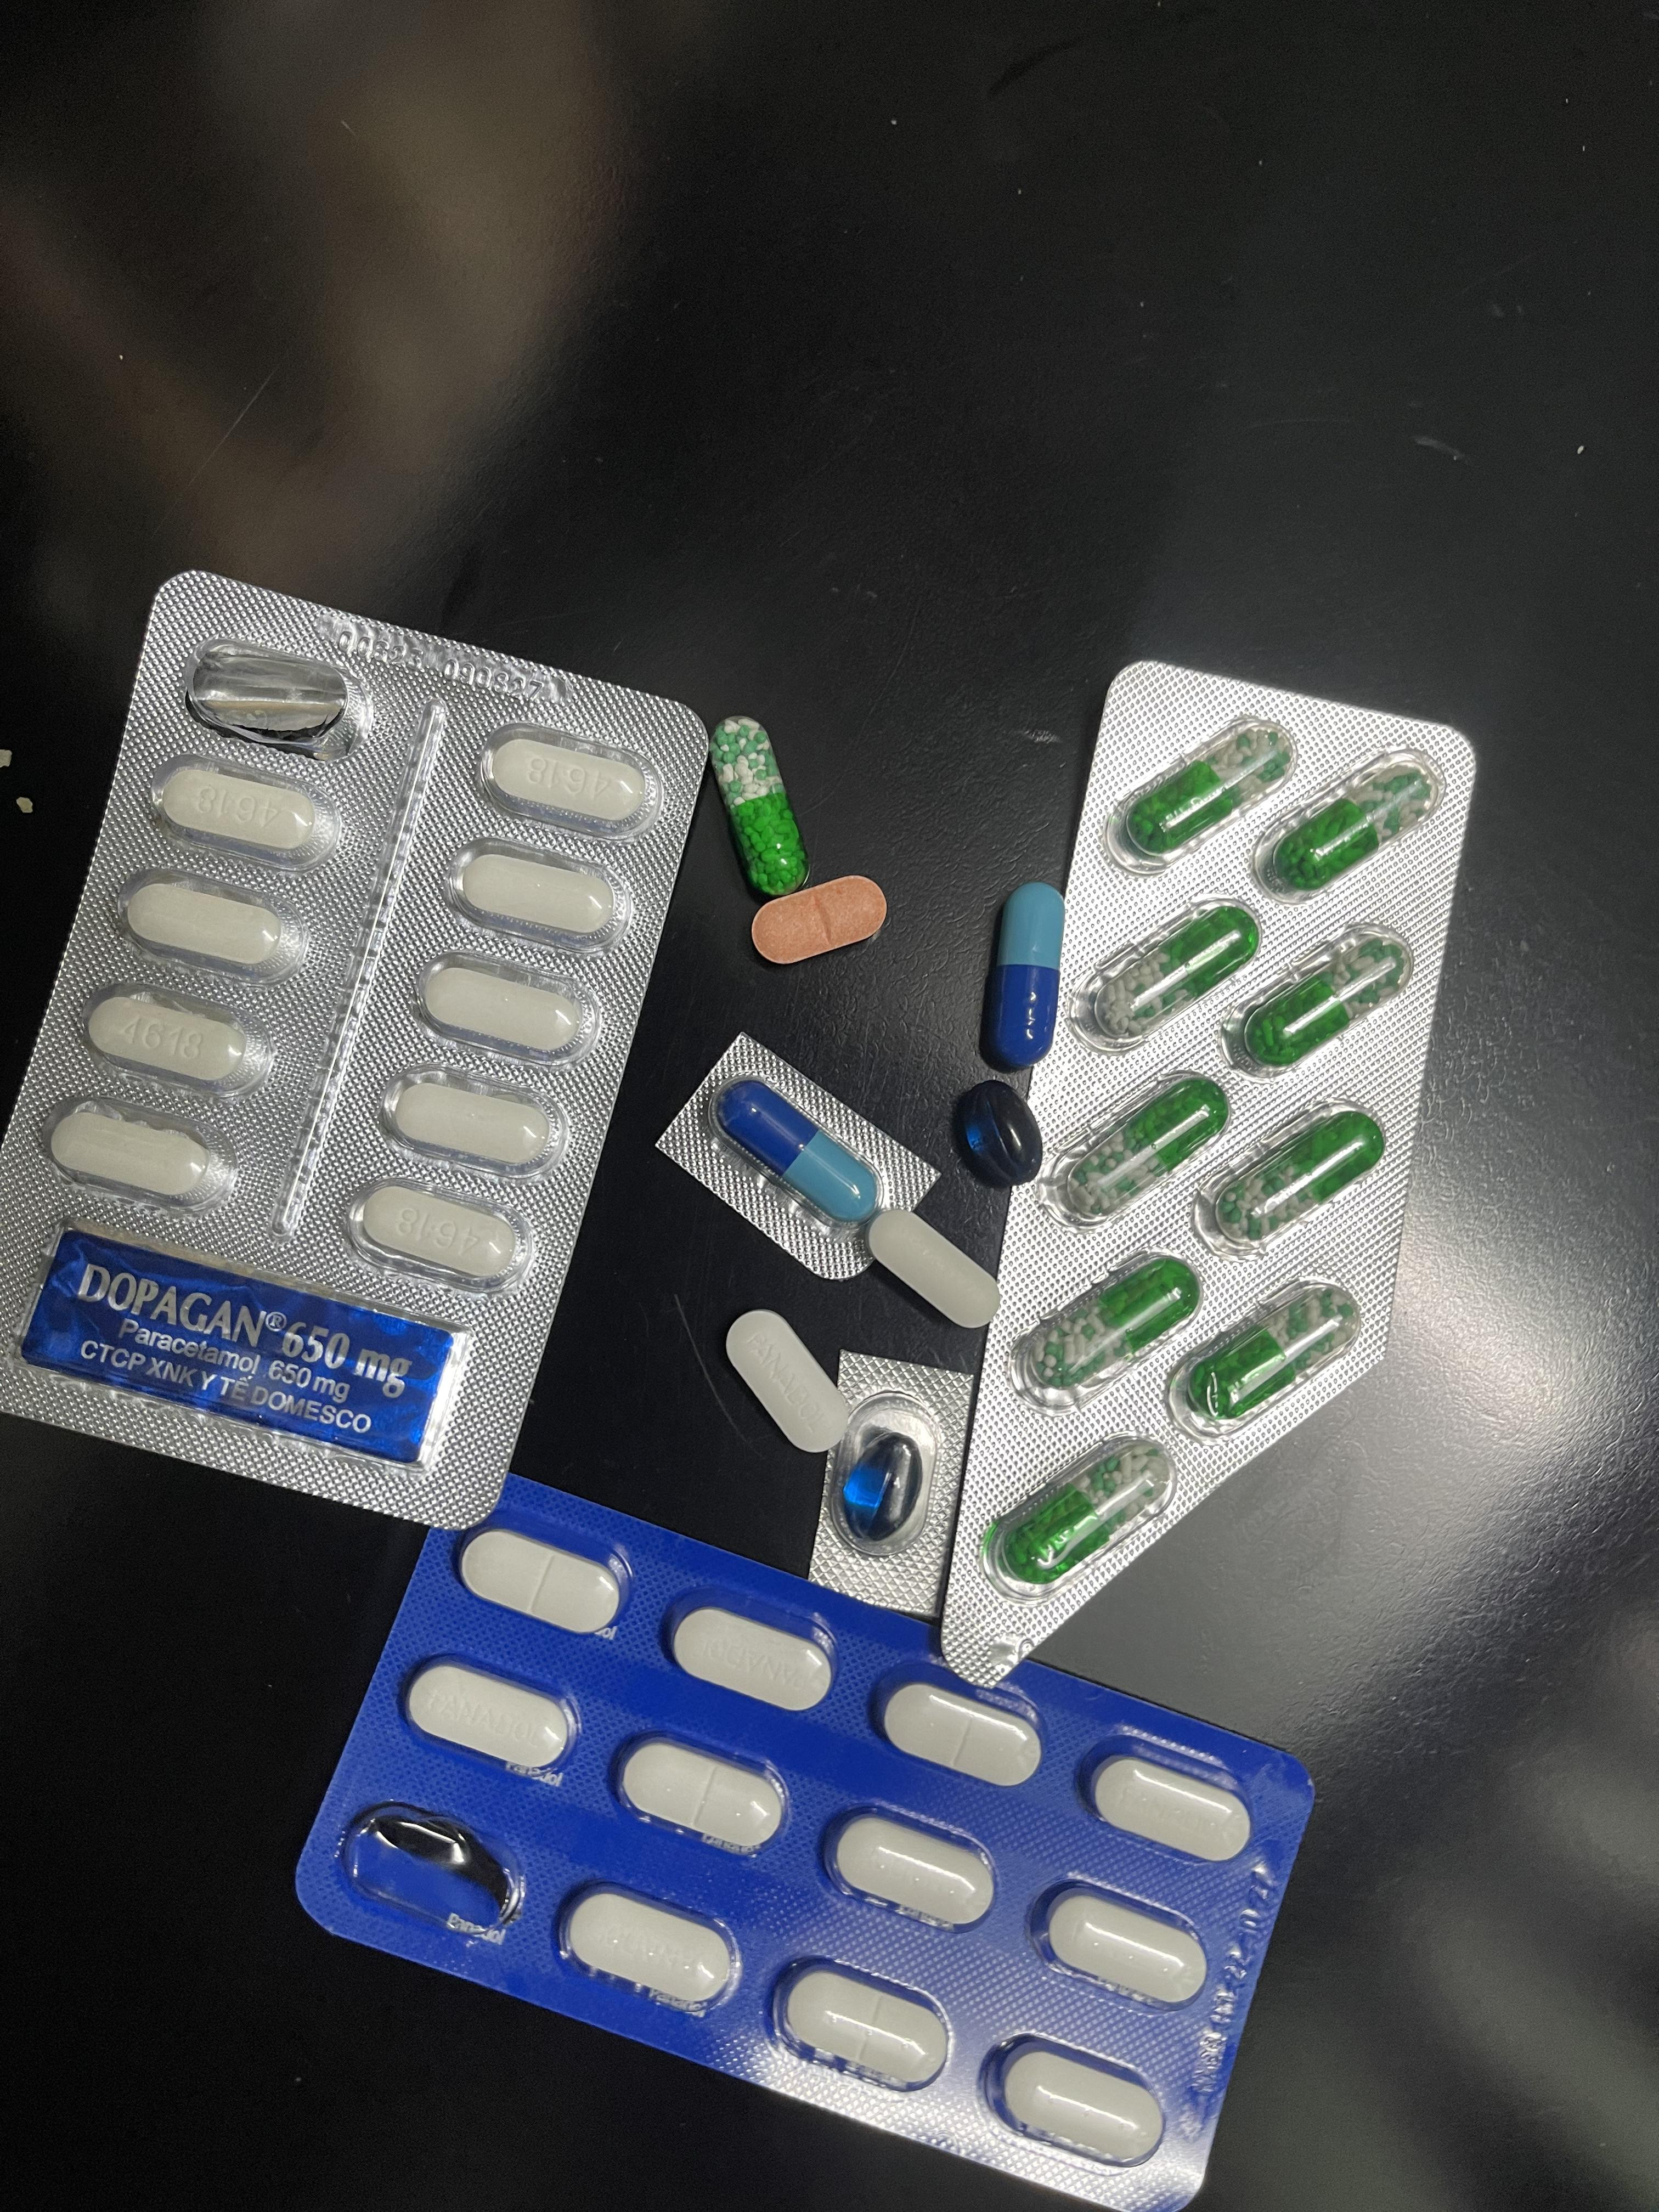Lincomyxin_500mg: (951, 1080, 1042, 1184), (842, 1433, 922, 1541)
Loratadine_10mg: (751, 874, 885, 965)
Paracetamol_350mg: (770, 1959, 951, 2092), (558, 1885, 741, 2015), (985, 2040, 1168, 2170), (1033, 1881, 1209, 2006), (403, 1656, 579, 1780), (613, 1733, 788, 1855), (823, 1810, 997, 1930), (664, 1594, 833, 1712), (1082, 1749, 1253, 1865), (878, 1676, 1046, 1789), (725, 1310, 857, 1453), (458, 1521, 626, 1629)
Paracetamol_500mg: (148, 752, 343, 867), (345, 1181, 535, 1298), (47, 1099, 240, 1212), (115, 869, 308, 979), (378, 1064, 568, 1176), (80, 988, 270, 1097), (413, 951, 601, 1061), (444, 838, 631, 948), (477, 726, 660, 838), (870, 1209, 1002, 1329)
Paracetamol_650mg: (1164, 1278, 1361, 1437), (1249, 747, 1443, 904), (1014, 1252, 1202, 1411), (1105, 718, 1295, 874), (988, 1435, 1176, 1590), (1046, 1075, 1227, 1231), (1225, 927, 1410, 1080), (1199, 1103, 1385, 1254), (1082, 902, 1258, 1050), (708, 714, 805, 900)
pill: (714, 1082, 884, 1228), (983, 885, 1066, 1066)
